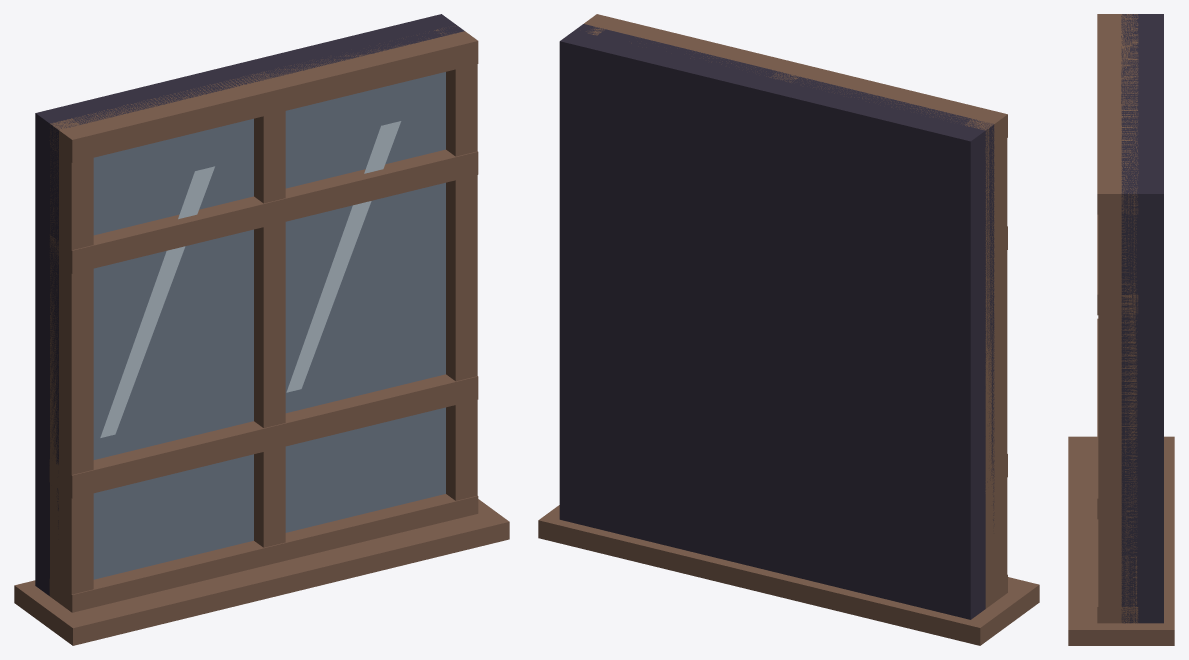
Rendered from SM_Cafe_Window_120x135.fbx.
3 renders of one model, left to right at view 1: azimuth 30°, elevation 25°; view 2: azimuth 150°, elevation 25°; view 3: azimuth 270°, elevation 25°, orthographic. The views are drawn at different scales.
Visible parts, largest first — view 1: SM_Cafe_Window_120x135; view 2: SM_Cafe_Window_120x135; view 3: SM_Cafe_Window_120x135.
Boxes of the visible parts, box(x1,y1,x2,y2) form: SM_Cafe_Window_120x135: box(14, 14, 509, 645); SM_Cafe_Window_120x135: box(538, 14, 1039, 645); SM_Cafe_Window_120x135: box(1068, 14, 1174, 645).
Bounding box in the file's own units: 1.29 × 0.3 × 1.39.
